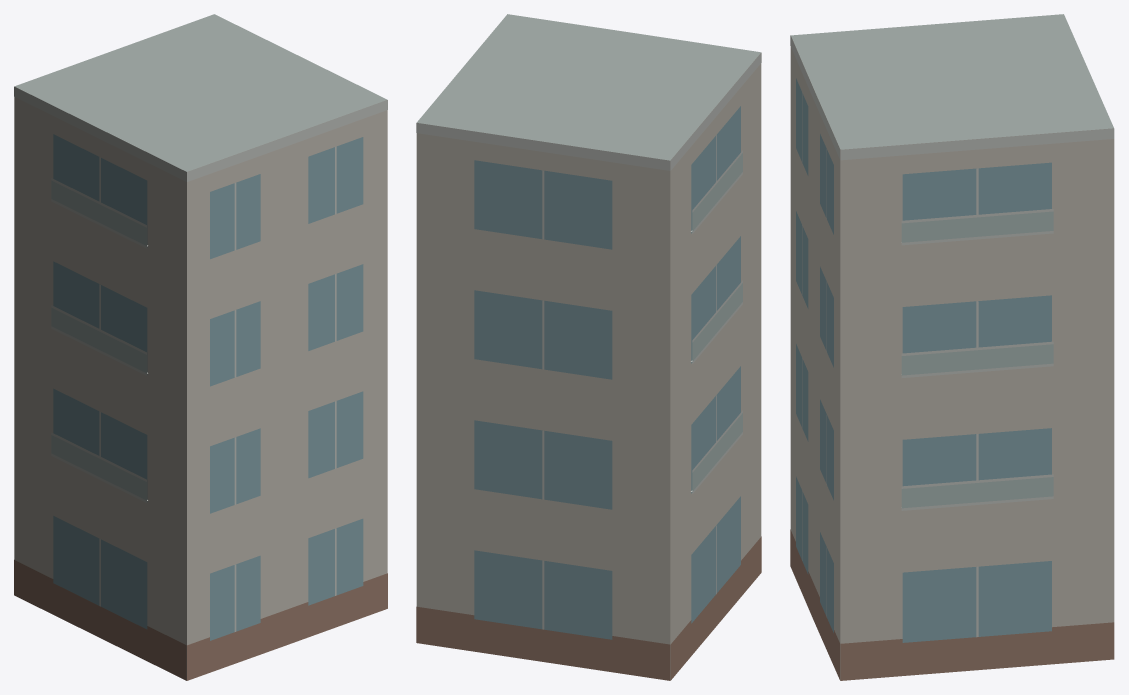
Rendered from residential-d022d9e5-d597-452f-a43b-6f89efeda854.glb.
3 views of the same model, side by side, from view 1: azimuth 30°, elevation 25°; view 2: azimuth 150°, elevation 25°; view 3: azimuth 270°, elevation 25° (orthographic). The views are drawn at different scales.
Parts seen in each view (by area): view 1: residential-d022d9e5-d597-452f-a43b-6f89efeda854.tmp; view 2: residential-d022d9e5-d597-452f-a43b-6f89efeda854.tmp; view 3: residential-d022d9e5-d597-452f-a43b-6f89efeda854.tmp.
Part boxes in pixels (bbox=[...]): residential-d022d9e5-d597-452f-a43b-6f89efeda854.tmp: bbox=[14, 14, 387, 680]; residential-d022d9e5-d597-452f-a43b-6f89efeda854.tmp: bbox=[416, 14, 761, 680]; residential-d022d9e5-d597-452f-a43b-6f89efeda854.tmp: bbox=[790, 14, 1114, 680].
Bounding box in the file's own units: 6.7 × 12.2 × 6.75.
